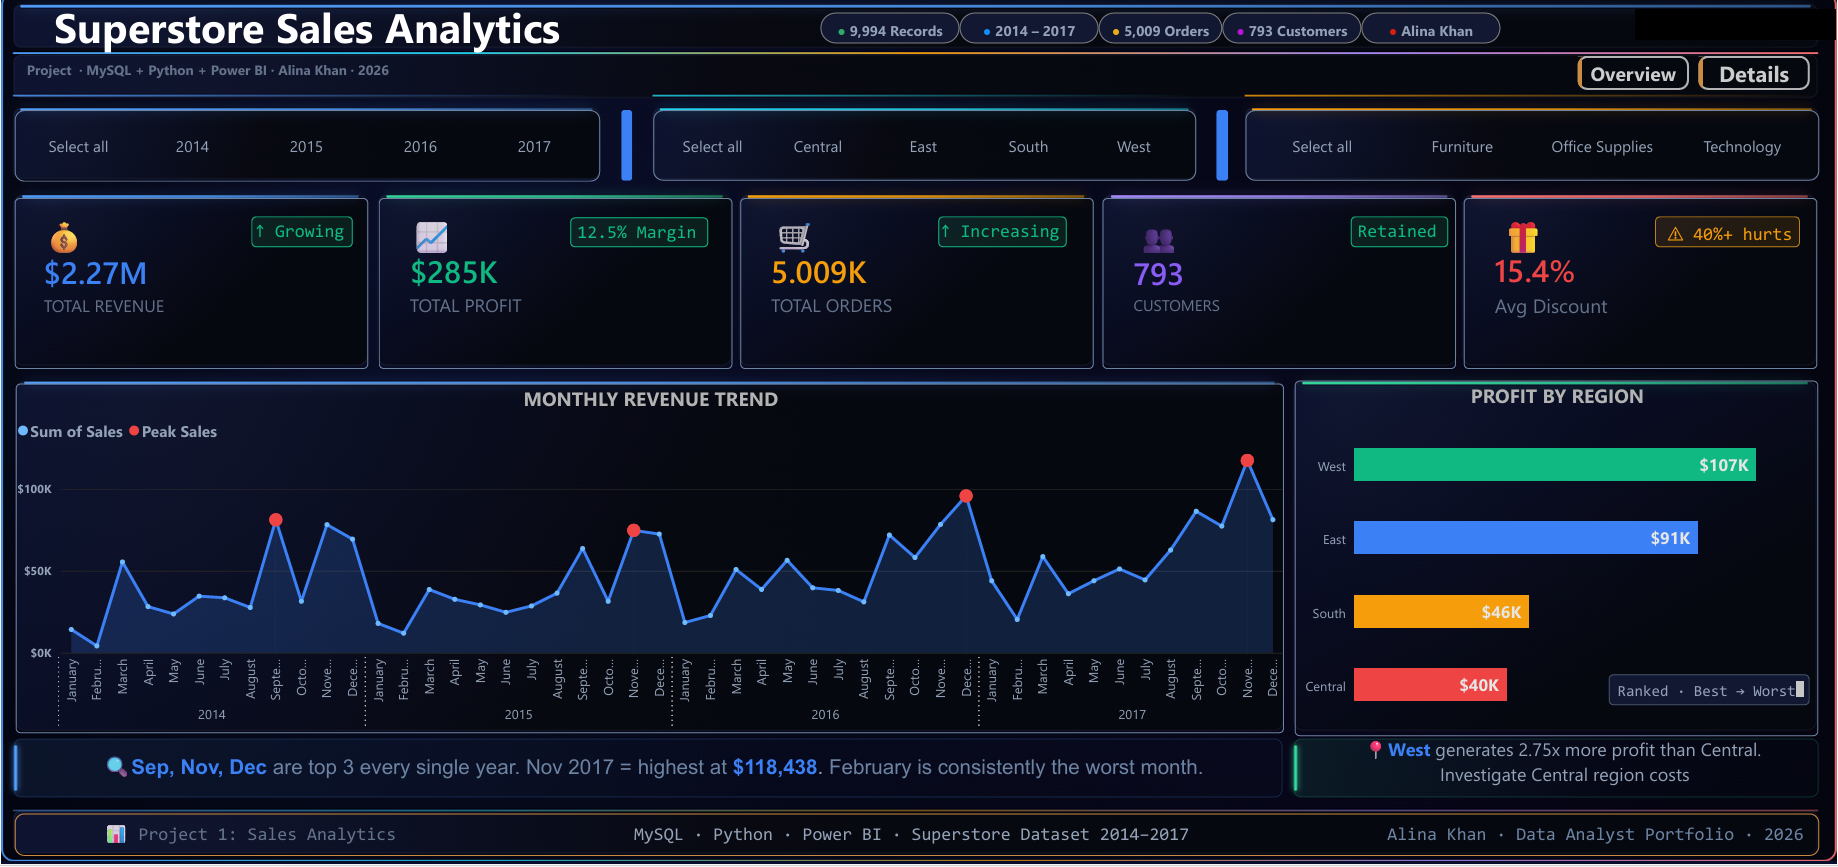

Layout of this report page (visuals, bound fields, positions):
{"tool":"powerbi","page":{"name":"Overview","canvas":[1900,900],"ordinal":1},"visuals":[{"type":"cardVisual","fields":{"Data":["Sum(Superstore_clean_csv.Sales)"]},"box":[13.8,210.8,366.2,176.9],"z":0},{"type":"cardVisual","fields":{"Data":["Sum(Superstore_clean_csv.Profit)"]},"box":[390.8,210.8,366.2,176.9],"z":1000},{"type":"cardVisual","fields":{"Data":["Count(Superstore_clean_csv.Order_ID)"]},"box":[764.6,210.8,366.2,176.9],"z":2000},{"type":"cardVisual","fields":{"Data":["Count(Superstore_Messy_1.Customer_Name)"]},"box":[1140,210.8,366.2,176.9],"z":3000},{"type":"cardVisual","fields":{"Data":["Superstore_clean_csv.Avg Discount"]},"box":[1513.8,210.8,366.2,176.9],"z":4000},{"type":"textbox","box":[259.1,230,105,32],"z":5000},{"type":"textbox","box":[589.2,230.8,143.1,30.8],"z":6000},{"type":"textbox","box":[969.7,230,133,31.8],"z":7000},{"type":"textbox","box":[1397,230,101.5,31.8],"z":8000},{"type":"textbox","box":[38.5,223.1,49.2,55.4],"z":9000},{"type":"textbox","box":[415.4,223.1,61.5,55.4],"z":10000},{"type":"textbox","box":[790.8,223.1,60,55.4],"z":11000},{"type":"textbox","box":[1172.3,223.1,52.3,55.4],"z":12000},{"type":"lineChart","title":"MONTHLY REVENUE TREND","fields":{"Y":["Sum(Superstore_Messy_1.Sales)","Superstore_Messy_1.Peak Sales"],"Category":["Superstore_clean_csv.Order_Date.Variation.Date Hierarchy.Year","Superstore_clean_csv.Order_Date.Variation.Date Hierarchy.Month"]},"box":[15.4,403.1,1312.3,361.5],"z":13000},{"type":"textbox","box":[16,768,1312,64],"z":14000},{"type":"textbox","box":[1712.1,230,150,31.8],"z":15000},{"type":"textbox","box":[50,0,553.8,72.3],"z":16000},{"type":"textbox","box":[16,64,400,32],"z":17000},{"type":"textbox","box":[816,20,144,32],"z":18000},{"type":"textbox","box":[1440,20,160,32],"z":19000},{"type":"textbox","box":[1136,20,128,32],"z":20000},{"type":"textbox","box":[976,20,144,32],"z":21000},{"type":"textbox","box":[1280,20,144,32],"z":22000},{"type":"shape","box":[641.7,120,11.7,73.3],"z":23000},{"type":"textbox","box":[1541.5,223.1,67.7,55.4],"z":24000},{"type":"clusteredBarChart","title":"PROFIT BY REGION","fields":{"Y":["Sum(Superstore_Messy_1.Profit)"],"Category":["Superstore_Messy_1.Region"]},"box":[1339,400,542,368],"z":25000},{"type":"textbox","box":[1648,704,224,48],"z":26000},{"type":"textbox","box":[1344,768,544,64],"z":27000},{"type":"textbox","box":[13.8,847.7,1867.7,44.6],"z":28000},{"type":"advancedSlicerVisual","fields":{"Values":["Superstore_clean_csv.Order_Date.Variation.Date Hierarchy.Year"]},"box":[13.8,120,606.2,73.8],"z":29000},{"type":"advancedSlicerVisual","fields":{"Values":["Superstore_clean_csv.Region"]},"box":[675,120,561.7,73.3],"z":30000},{"type":"advancedSlicerVisual","fields":{"Values":["Superstore_clean_csv.Category"]},"box":[1288.3,120,593.3,73.3],"z":31000},{"type":"shape","box":[1258.3,120,11.7,73.3],"z":32000},{"type":"pageNavigator","box":[1632,64,240,35],"z":33000},{"type":"textbox","box":[1692,16,208,32],"z":34000}]}

Visuals, with their boxes in screenshot pixels (x1, y1, x2, y2), scaled from the page's 1900x900 canvas onto the 1838x867 screenshot:
cardVisual - Sum(Superstore_clean_csv.Sales): l=13, t=203, r=368, b=373
cardVisual - Sum(Superstore_clean_csv.Profit): l=378, t=203, r=732, b=373
cardVisual - Count(Superstore_clean_csv.Order_ID): l=740, t=203, r=1094, b=373
cardVisual - Count(Superstore_Messy_1.Customer_Name): l=1103, t=203, r=1457, b=373
cardVisual - Superstore_clean_csv.Avg Discount: l=1464, t=203, r=1819, b=373
textbox: l=251, t=222, r=352, b=252
textbox: l=570, t=222, r=708, b=252
textbox: l=938, t=222, r=1067, b=252
textbox: l=1351, t=222, r=1450, b=252
textbox: l=37, t=215, r=85, b=268
textbox: l=402, t=215, r=461, b=268
textbox: l=765, t=215, r=823, b=268
textbox: l=1134, t=215, r=1185, b=268
"MONTHLY REVENUE TREND" lineChart: l=15, t=388, r=1284, b=737
textbox: l=15, t=740, r=1285, b=801
textbox: l=1656, t=222, r=1801, b=252
textbox: l=48, t=0, r=584, b=70
textbox: l=15, t=62, r=402, b=92
textbox: l=789, t=19, r=929, b=50
textbox: l=1393, t=19, r=1548, b=50
textbox: l=1099, t=19, r=1223, b=50
textbox: l=944, t=19, r=1083, b=50
textbox: l=1238, t=19, r=1378, b=50
shape: l=621, t=116, r=632, b=186
textbox: l=1491, t=215, r=1557, b=268
"PROFIT BY REGION" clusteredBarChart: l=1295, t=385, r=1820, b=740
textbox: l=1594, t=678, r=1811, b=724
textbox: l=1300, t=740, r=1826, b=801
textbox: l=13, t=817, r=1820, b=860
advancedSlicerVisual - Superstore_clean_csv.Order_Date.Variation.Date Hierarchy.Year: l=13, t=116, r=600, b=187
advancedSlicerVisual - Superstore_clean_csv.Region: l=653, t=116, r=1196, b=186
advancedSlicerVisual - Superstore_clean_csv.Category: l=1246, t=116, r=1820, b=186
shape: l=1217, t=116, r=1229, b=186
pageNavigator: l=1579, t=62, r=1811, b=95
textbox: l=1637, t=15, r=1837, b=46
